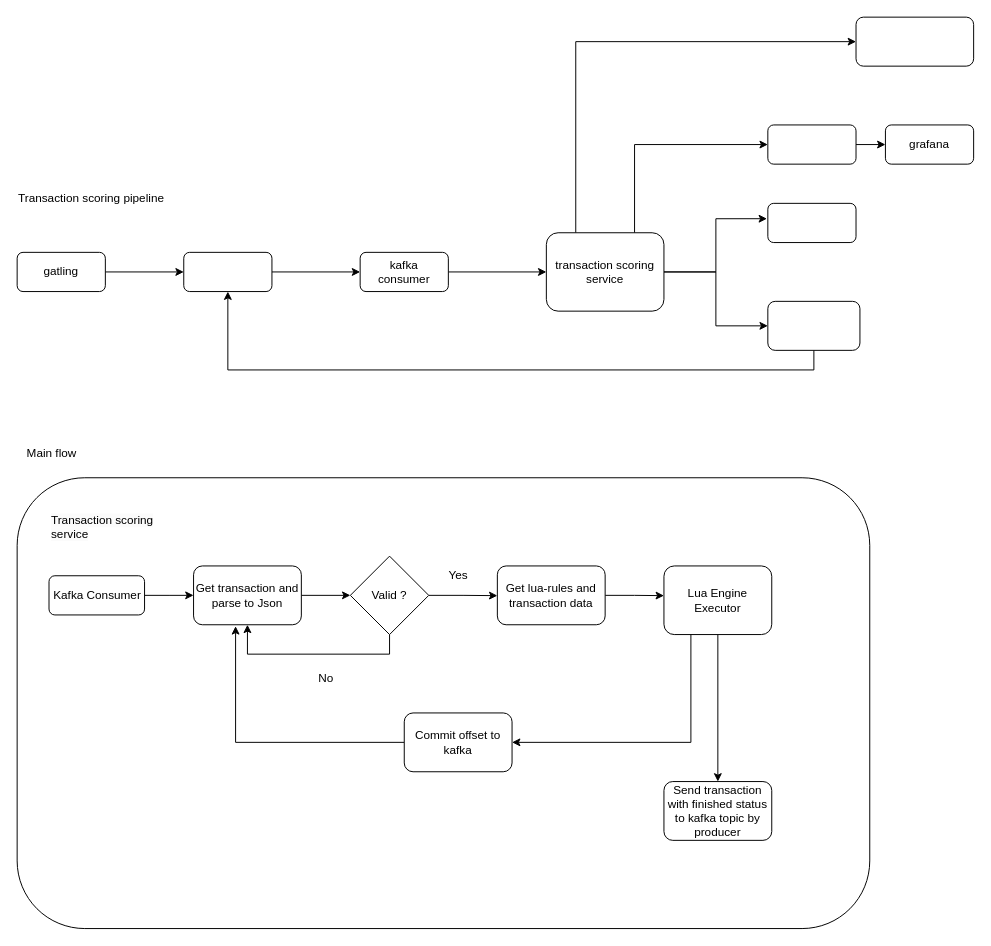
The diagram is 991 pixels wide and 946 high, and some of its shapes have lost their labels. Here are the shapes that lost their labels. From the top down, the centre of each, then its label:
At pixel 914 41: "Some external api service".
At pixel 811 144: "prometheus".
At pixel 811 222: "kibana".
At pixel 227 271: "kafka".
At pixel 813 325: "kafka producer".
